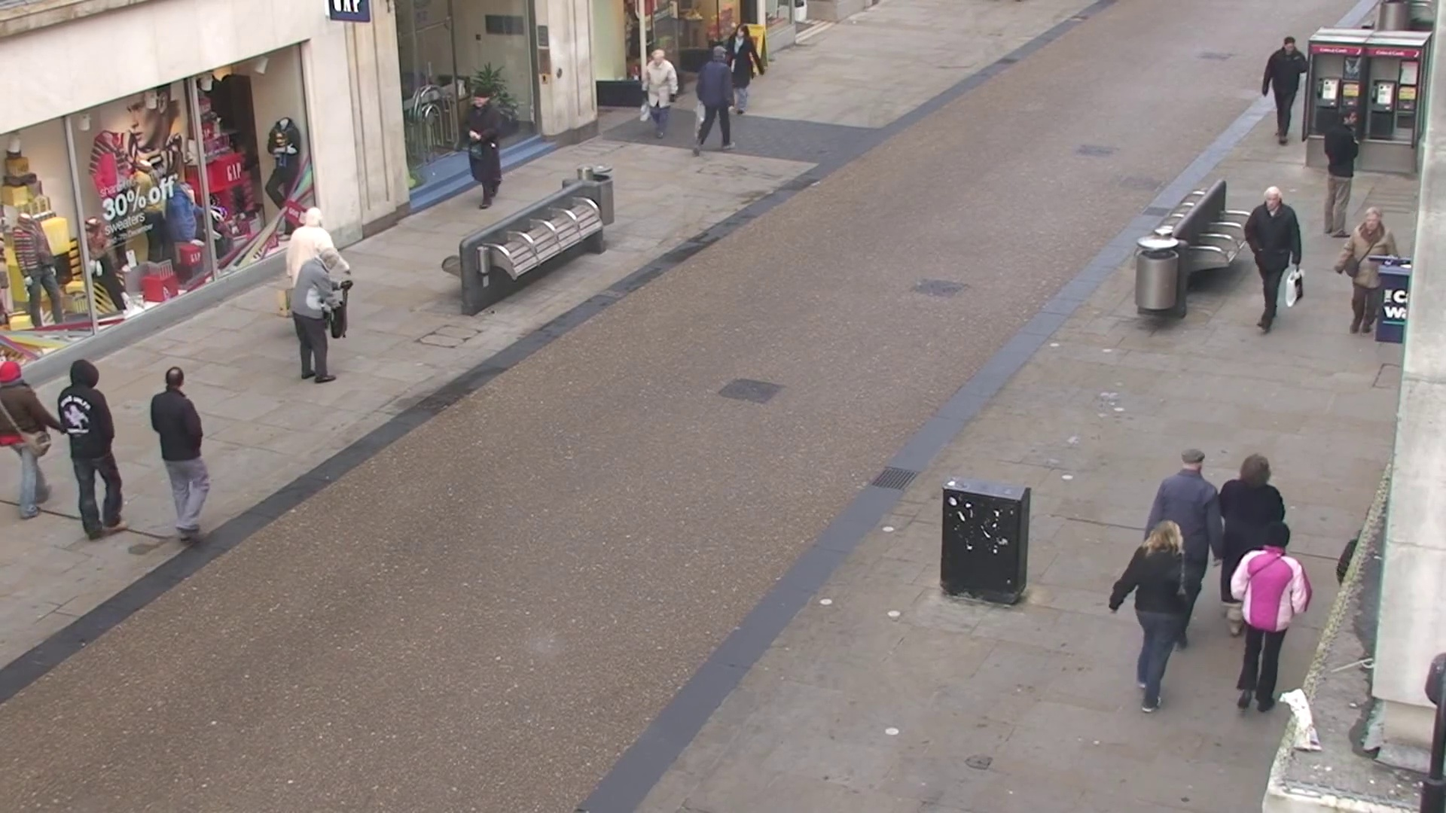person: (1109, 519, 1193, 713), (1228, 529, 1310, 714), (1145, 447, 1222, 618), (56, 360, 125, 539), (1215, 452, 1292, 601), (148, 366, 210, 542), (285, 211, 342, 384), (1242, 185, 1304, 333), (1334, 205, 1399, 336), (1263, 35, 1310, 145), (1322, 109, 1361, 234), (691, 42, 733, 149), (464, 99, 502, 211), (642, 45, 679, 130)
